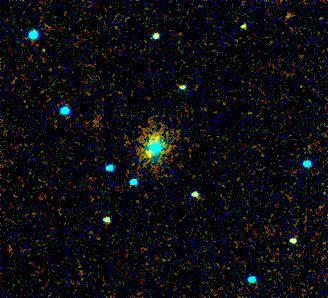star: (226, 7, 256, 37)
